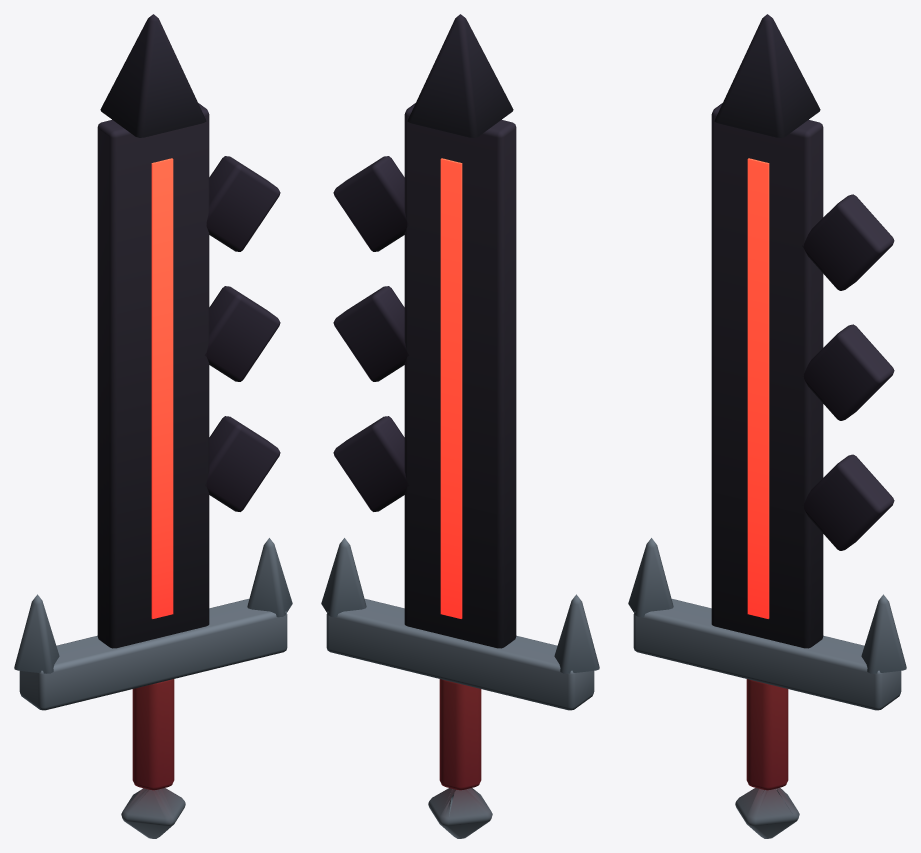
The model's file is cursed_blade.glb.
3 views of the same model, side by side, from view 1: azimuth 30°, elevation 25°; view 2: azimuth 150°, elevation 25°; view 3: azimuth 330°, elevation 25° (orthographic).
Parts seen in each view (by area): view 1: cursed_blade, cursed_blade_glow; view 2: cursed_blade, cursed_blade_glow; view 3: cursed_blade, cursed_blade_glow.
Boxes of the visible parts, x1,y1,x2,y2 form: cursed_blade: [14, 14, 292, 838]; cursed_blade_glow: [151, 158, 173, 618]; cursed_blade: [321, 14, 599, 838]; cursed_blade_glow: [440, 158, 462, 618]; cursed_blade: [628, 14, 906, 838]; cursed_blade_glow: [747, 158, 769, 618].
Bounding box in the file's own units: 0.6698 × 1.9 × 0.1697.
